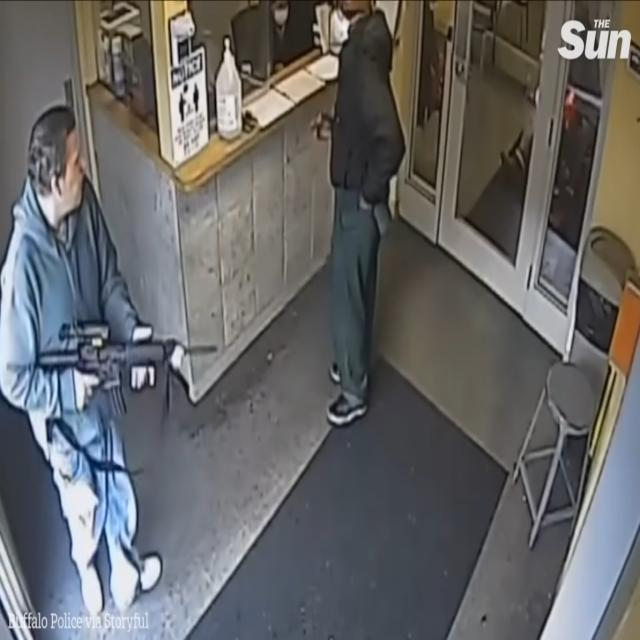RifleTel: (33, 307, 221, 428)
